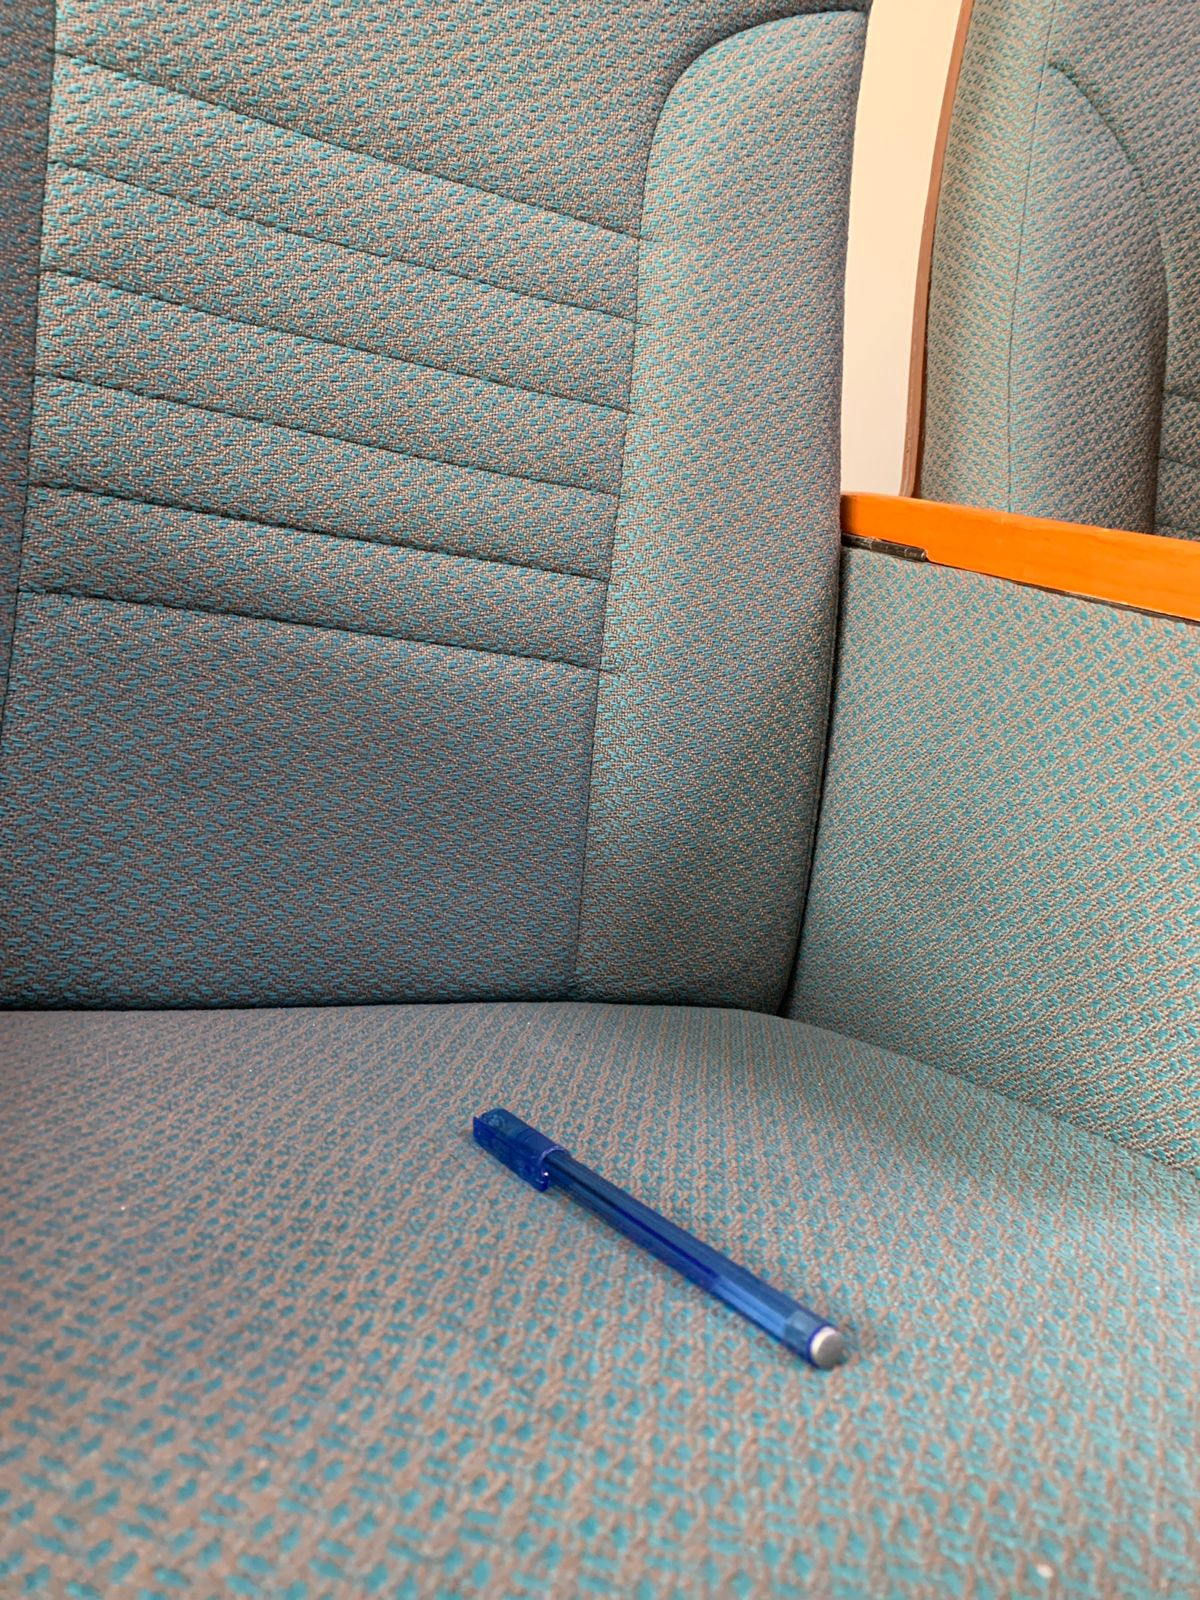pen: (389, 1071, 892, 1385)
